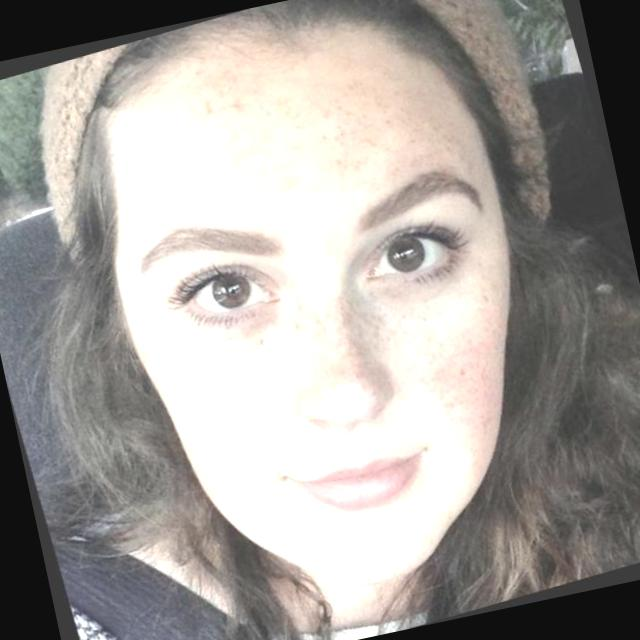freckle: (156, 252, 548, 502), (135, 0, 490, 252)
